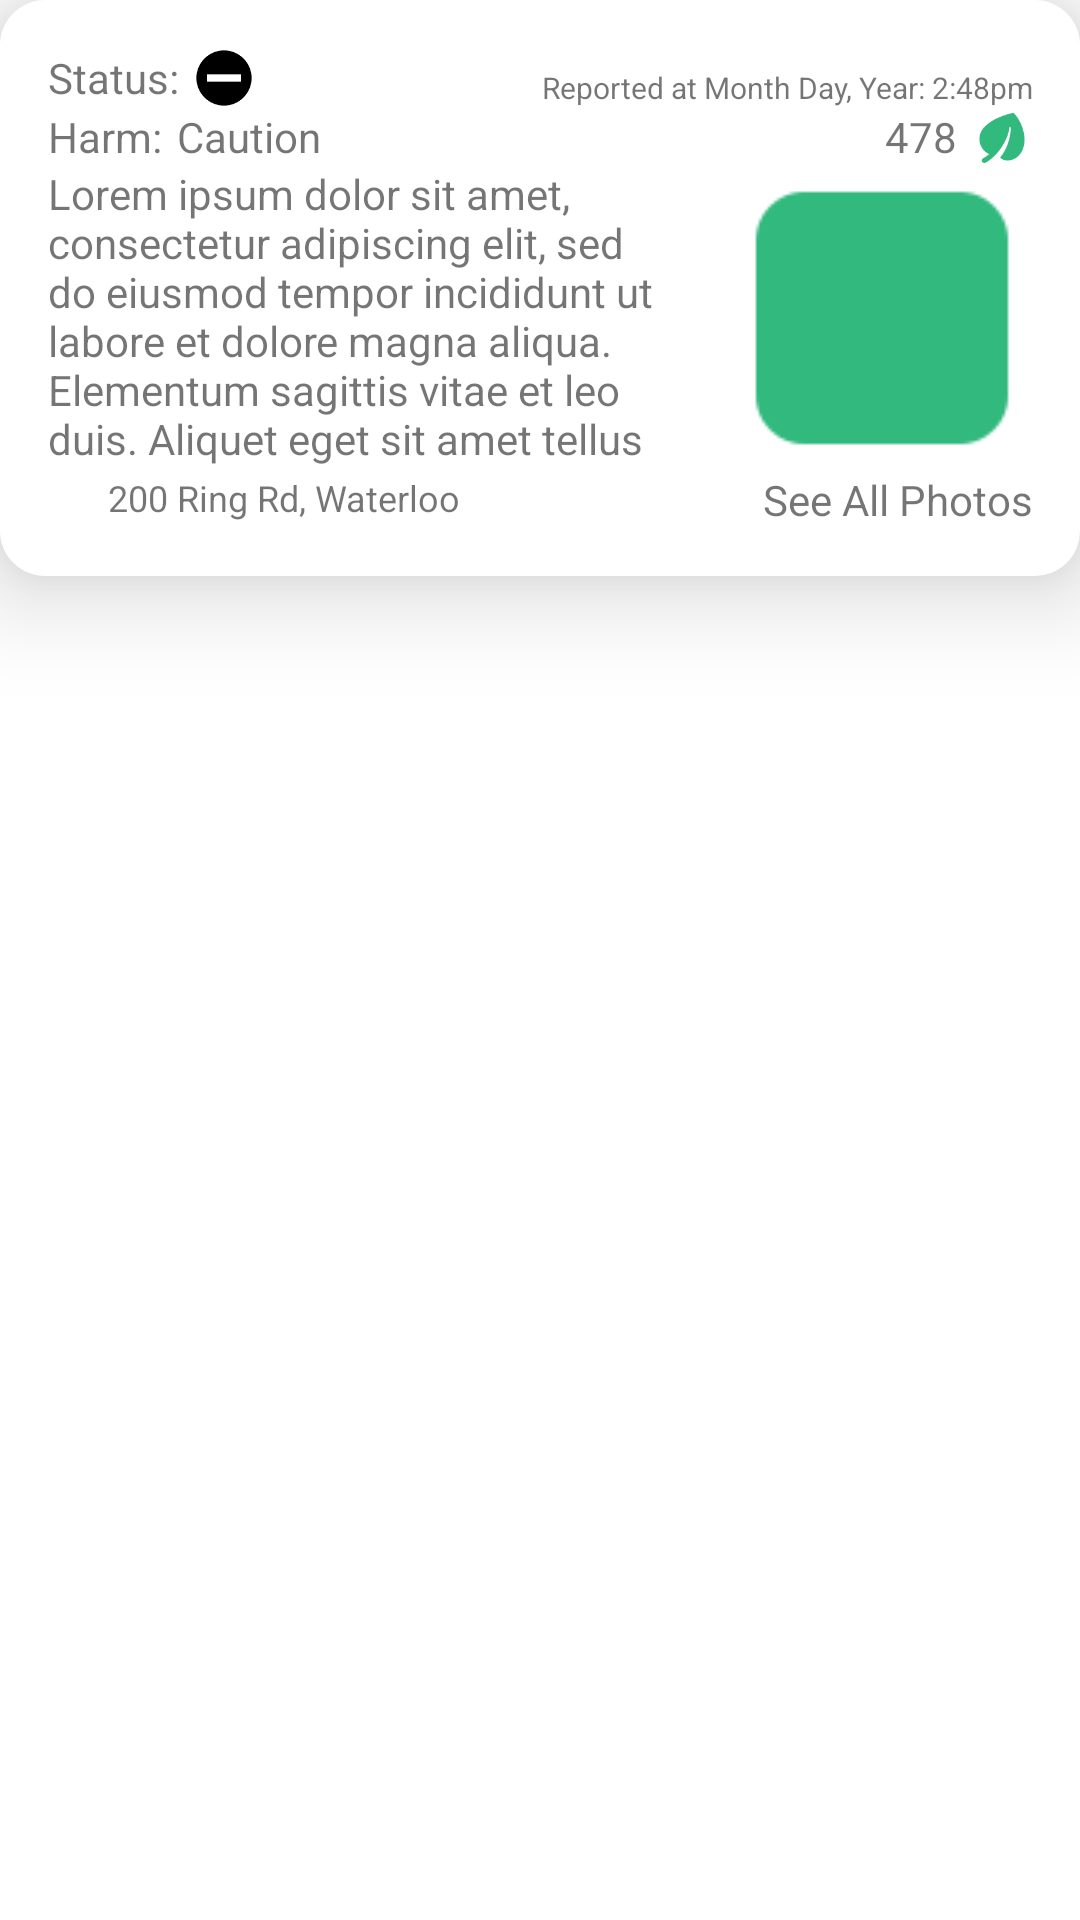

Icons on this 1080px×1920px Android screen, each with its box as (x1, y1, x2, y2):
do not disturb: (196, 50, 252, 106)
leaf: (979, 113, 1025, 163)
